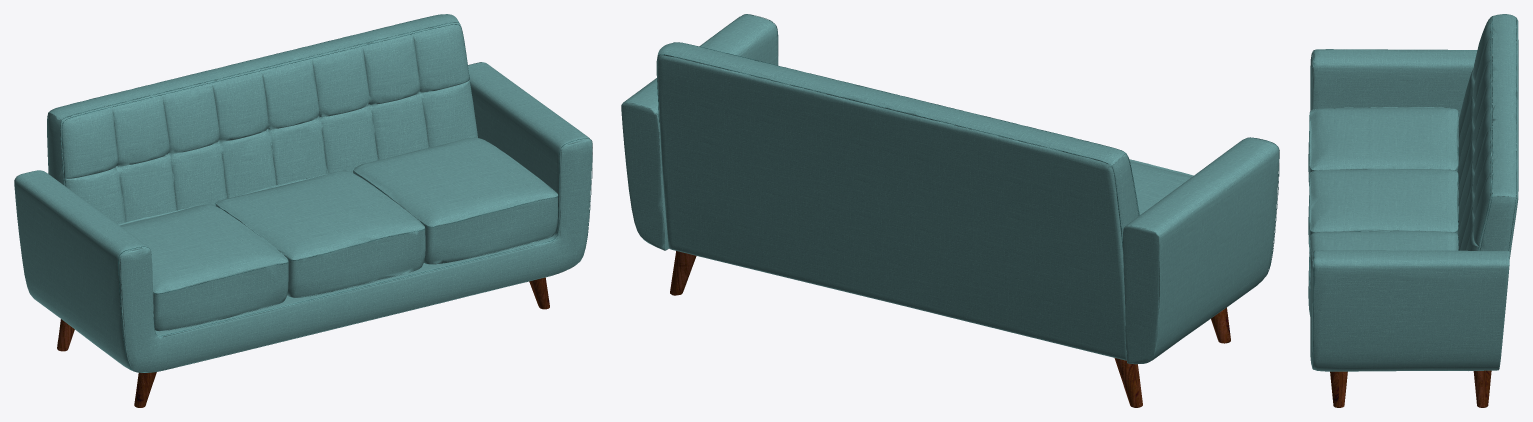
File: LGLY6149.obj
3 views of the same model, side by side, from view 1: azimuth 30°, elevation 25°; view 2: azimuth 150°, elevation 25°; view 3: azimuth 270°, elevation 25° (orthographic). The views are drawn at different scales.
Visible parts, largest first — view 1: not_clear_obj_0_v6, not_clear_obj_2_v6, not_clear_obj_1_v6; view 2: not_clear_obj_0_v6, not_clear_obj_1_v6, not_clear_obj_2_v6; view 3: not_clear_obj_0_v6, not_clear_obj_1_v6, not_clear_obj_2_v6.
Part boxes in pixels (bbox=[...]): not_clear_obj_0_v6: bbox=[14, 14, 592, 372]; not_clear_obj_2_v6: bbox=[47, 14, 592, 372]; not_clear_obj_1_v6: bbox=[57, 277, 549, 407]; not_clear_obj_0_v6: bbox=[621, 14, 1279, 364]; not_clear_obj_1_v6: bbox=[670, 251, 1230, 407]; not_clear_obj_2_v6: bbox=[656, 14, 1279, 275]; not_clear_obj_0_v6: bbox=[1308, 14, 1518, 371]; not_clear_obj_1_v6: bbox=[1330, 370, 1491, 407]; not_clear_obj_2_v6: bbox=[1309, 16, 1516, 369].
Size of what is drawn, in the model's own units: 179 by 82.53 by 73.65.
